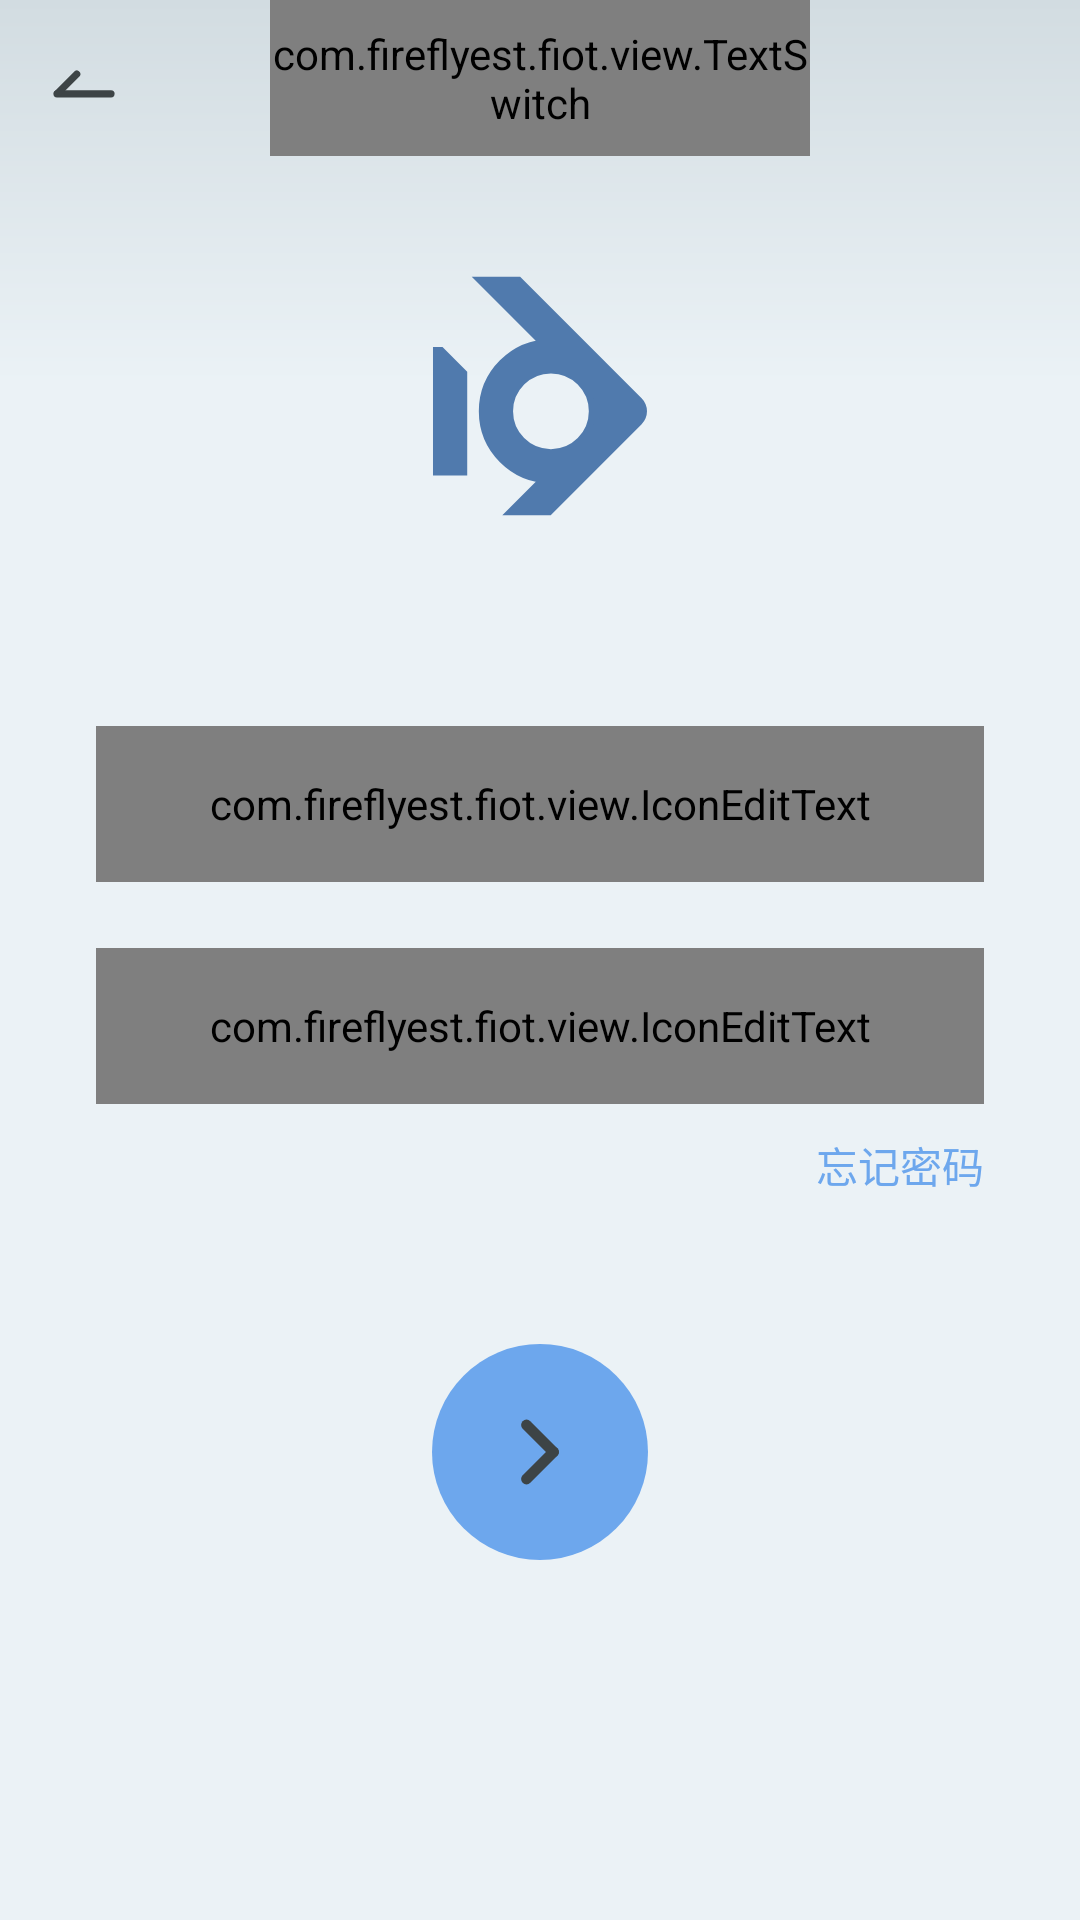

Screen size 1080px×1920px. Icon name, then its center in pixels as (x,y):
登录: (540,1452)
